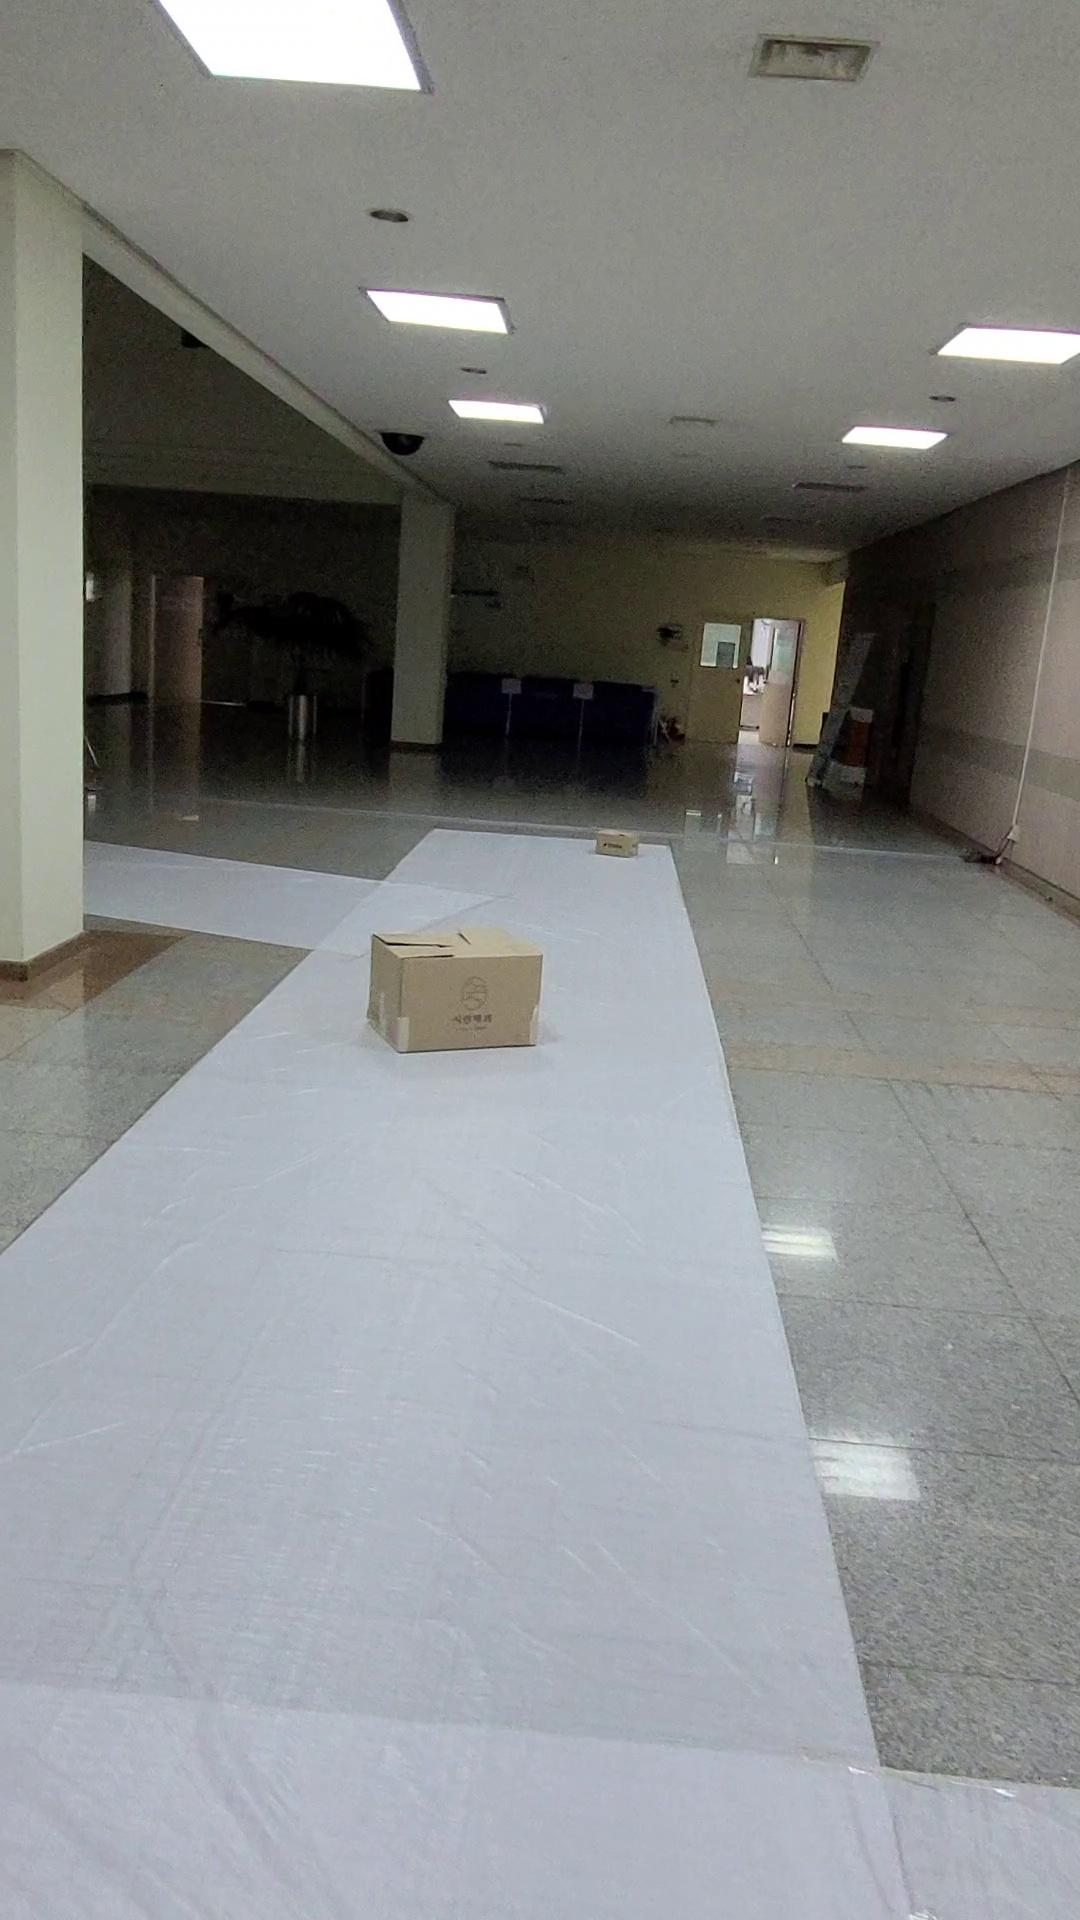Box: (343, 915, 567, 1077), (583, 804, 657, 890)
